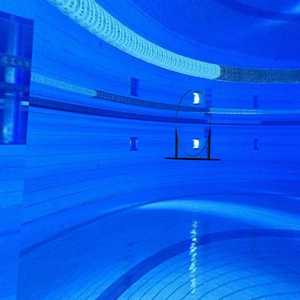circle: (164, 88, 221, 163)
